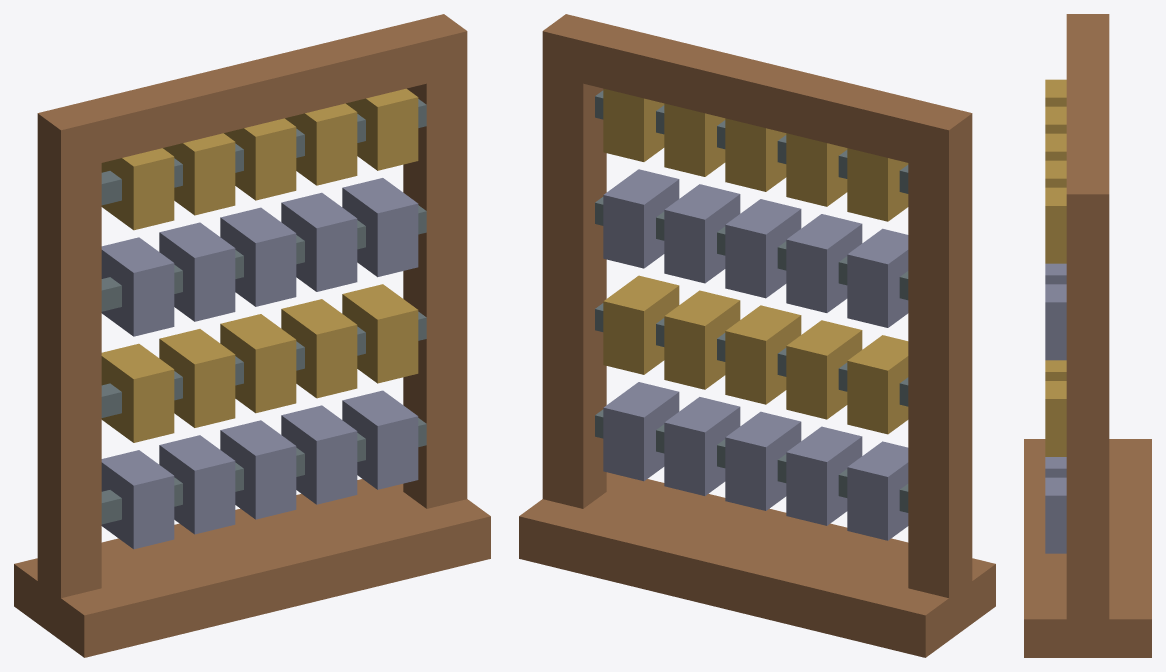
The model's file is mathematics-02.glb.
The picture shows the model from 3 angles, left to right: view 1: azimuth 30°, elevation 25°; view 2: azimuth 150°, elevation 25°; view 3: azimuth 270°, elevation 25°; orthographic projection. The views are drawn at different scales.
Parts seen in each view (by area): view 1: Abacus; view 2: Abacus; view 3: Abacus.
Part boxes in pixels (<box>): Abacus: <box>14,14,490,657</box>; Abacus: <box>519,14,995,657</box>; Abacus: <box>1024,14,1151,657</box>.
Size of the model in its own units: 1.6 by 1.92 by 0.48.
